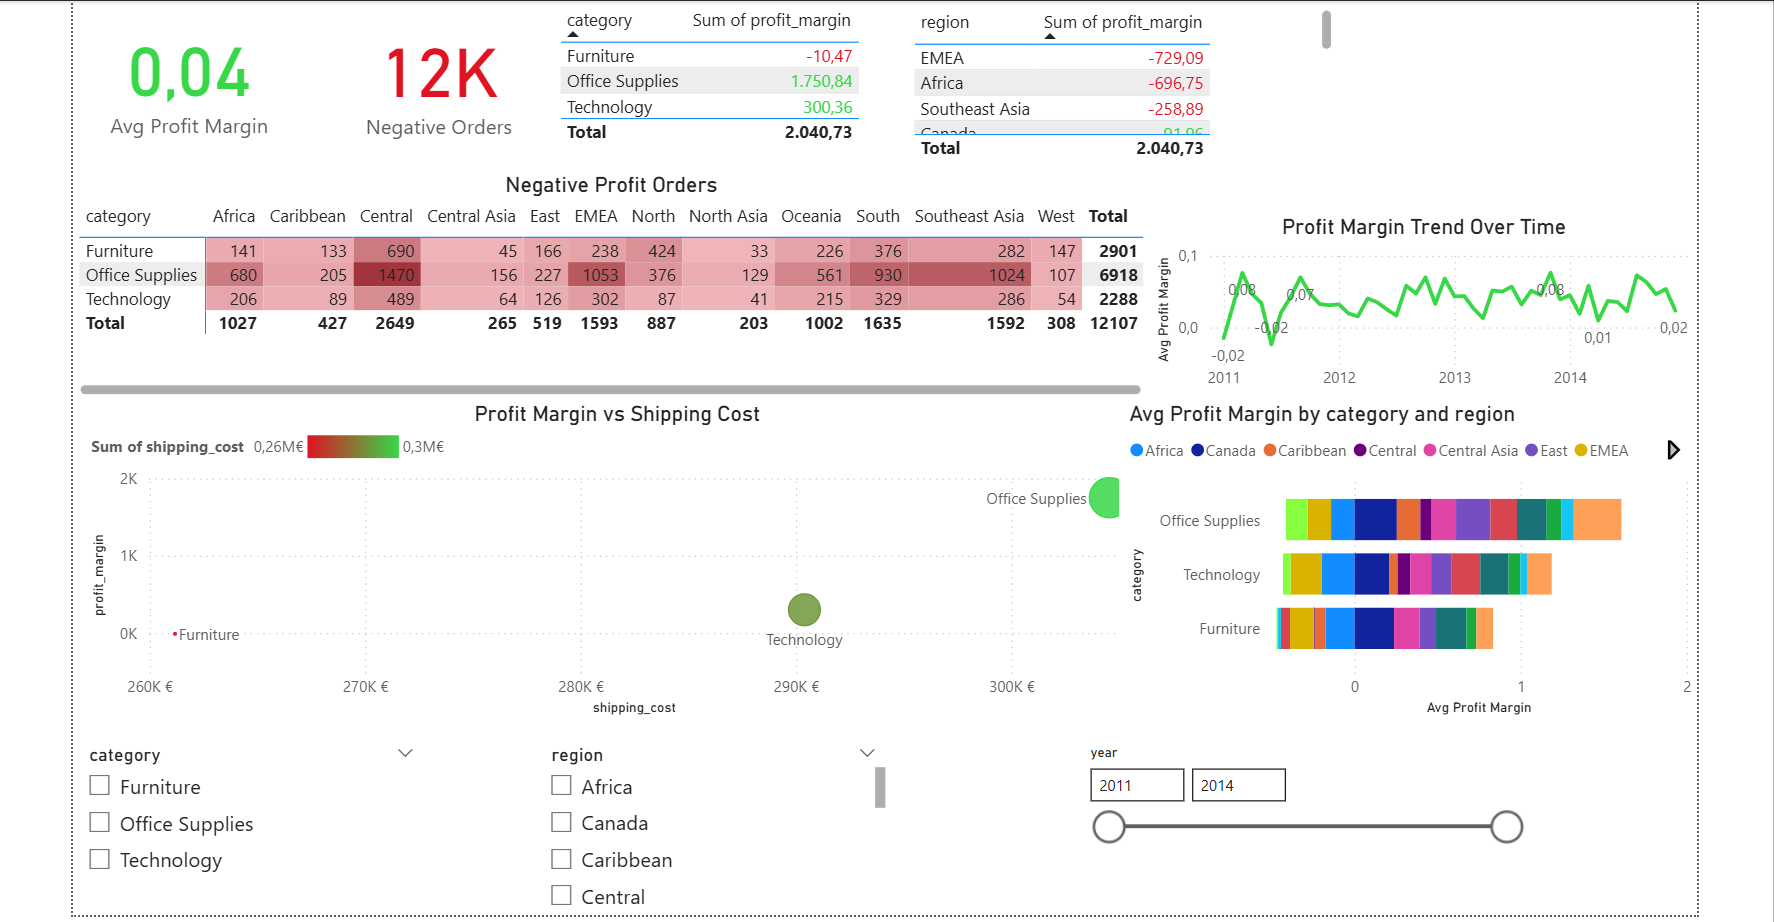

This screenshot's page, from the dashboard's own definition file:
{"tool":"powerbi","page":{"name":"kpi","canvas":[1280,720],"ordinal":0},"visuals":[{"type":"card","fields":{"Values":["superstore_cleaned.Avg Profit Margin"]},"box":[9.5,0,164.2,119],"z":0},{"type":"card","fields":{"Values":["superstore_cleaned.Negative Orders"]},"box":[198.7,1.2,179.6,117.8],"z":1000},{"type":"tableEx","fields":{"Values":["superstore_cleaned.category","Sum(superstore_cleaned.profit_margin)"]},"box":[378.3,0,252.2,129.7],"z":2000},{"type":"tableEx","fields":{"Values":["superstore_cleaned.region","Sum(superstore_cleaned.profit_margin)"]},"box":[656.7,1.2,340.2,128.5],"z":3000},{"type":"pivotTable","title":"Negative Profit Orders","fields":{"Rows":["superstore_cleaned.category"],"Columns":["superstore_cleaned.region"],"Values":["superstore_cleaned.Negative Orders Count"]},"box":[0,134.4,848.2,180.8],"z":4000},{"type":"slicer","fields":{"Values":["superstore_cleaned.region"]},"box":[364,580.5,280.7,139.2],"z":5000},{"type":"slicer","fields":{"Values":["superstore_cleaned.category"]},"box":[0,580.5,280.7,139.2],"z":6000},{"type":"slicer","fields":{"Values":["superstore_cleaned.year"]},"box":[788.7,580.5,362.8,139.2],"z":7000},{"type":"scatterChart","title":"Profit Margin vs Shipping Cost","fields":{"X":["Sum(superstore_cleaned.shipping_cost)"],"Y":["Sum(superstore_cleaned.profit_margin)"],"Size":["Sum(superstore_cleaned.sales)"],"Category":["superstore_cleaned.category"]},"box":[9.5,315.2,838.7,252.2],"z":8000},{"type":"barChart","fields":{"Category":["superstore_cleaned.category"],"Y":["superstore_cleaned.Avg Profit Margin"],"Series":["superstore_cleaned.region"]},"box":[826.9,314.9,453.1,252.3],"z":9000},{"type":"lineChart","title":"Profit Margin Trend Over Time","fields":{"Y":["Sum(monthly_profit.avg_profit_margin)"],"Category":["monthly_profit.order_date"]},"box":[848.2,167.7,431.8,147.5],"z":10000}]}

Visuals, with their boxes on the page's 1280x720 design canvas (x1, y1, x2, y2). These are canvas units, not pixel positions in the 1774x922 screenshot, which may show the page scaled, cropped or inside an application window:
card - superstore_cleaned.Avg Profit Margin: (10,0,174,119)
card - superstore_cleaned.Negative Orders: (199,1,378,119)
tableEx - superstore_cleaned.category x Sum(superstore_cleaned.profit_margin): (378,0,630,130)
tableEx - superstore_cleaned.region x Sum(superstore_cleaned.profit_margin): (657,1,997,130)
"Negative Profit Orders" pivotTable: (0,134,848,315)
slicer - superstore_cleaned.region: (364,580,645,720)
slicer - superstore_cleaned.category: (0,580,281,720)
slicer - superstore_cleaned.year: (789,580,1152,720)
"Profit Margin vs Shipping Cost" scatterChart: (10,315,848,567)
barChart - superstore_cleaned.category x superstore_cleaned.Avg Profit Margin: (827,315,1280,567)
"Profit Margin Trend Over Time" lineChart: (848,168,1280,315)
